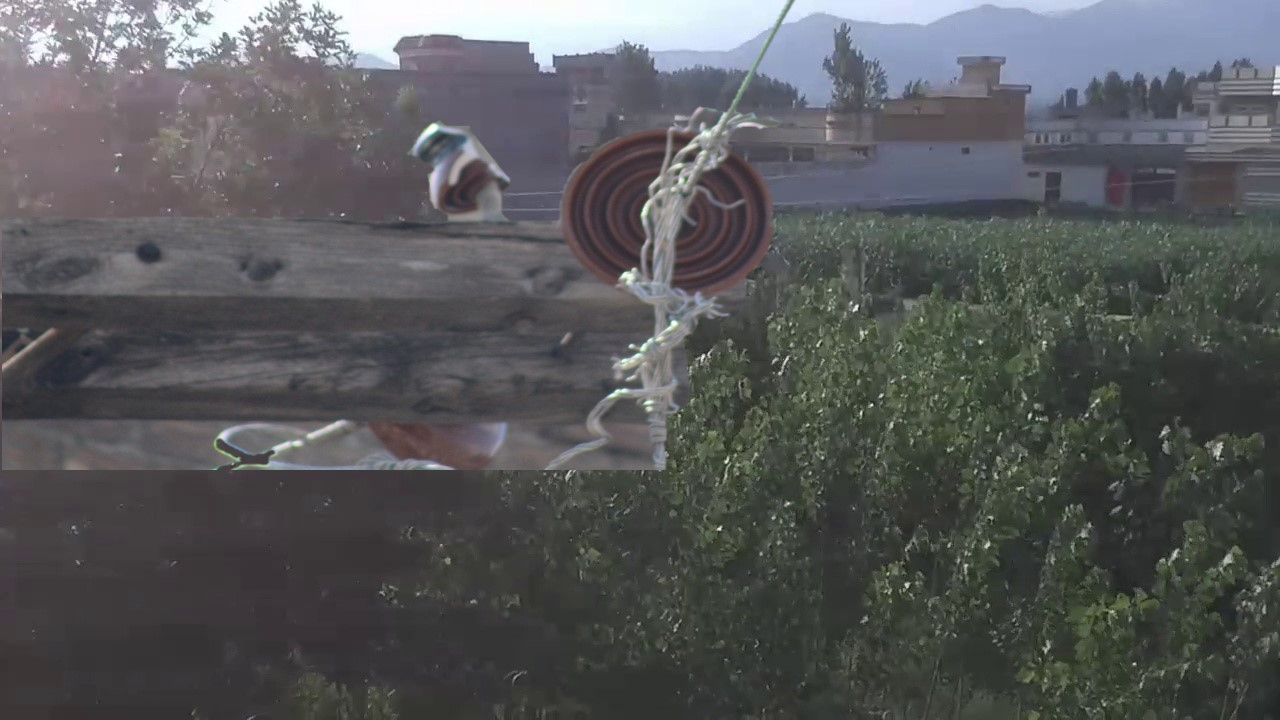defect_pin: (408, 112, 516, 221)
insulator_disc: (560, 123, 780, 304)
